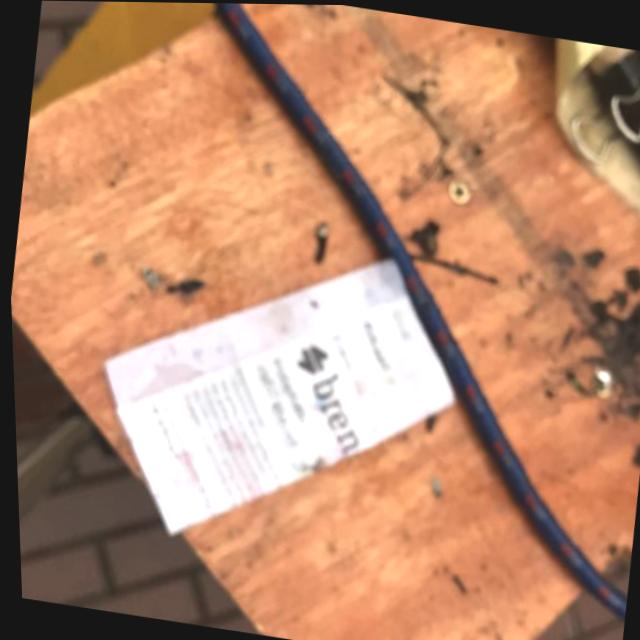Paper: (66, 209, 484, 585)
